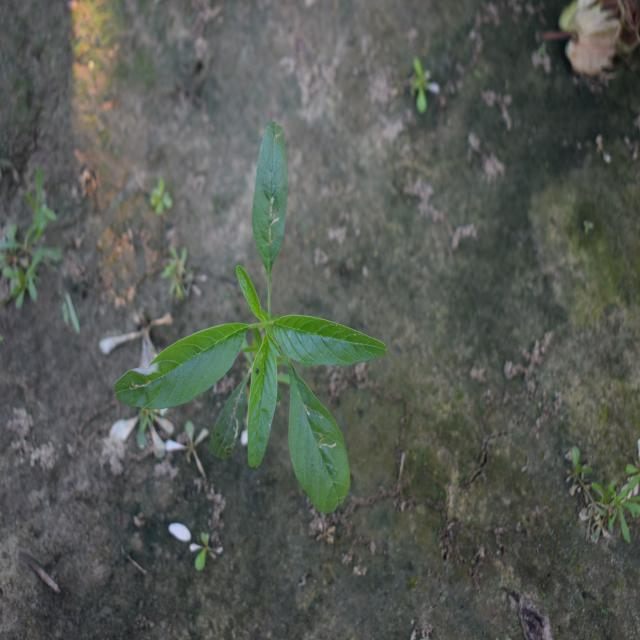Carpetweed: (567, 442, 639, 550)
Waterhemp: (112, 121, 388, 516)
